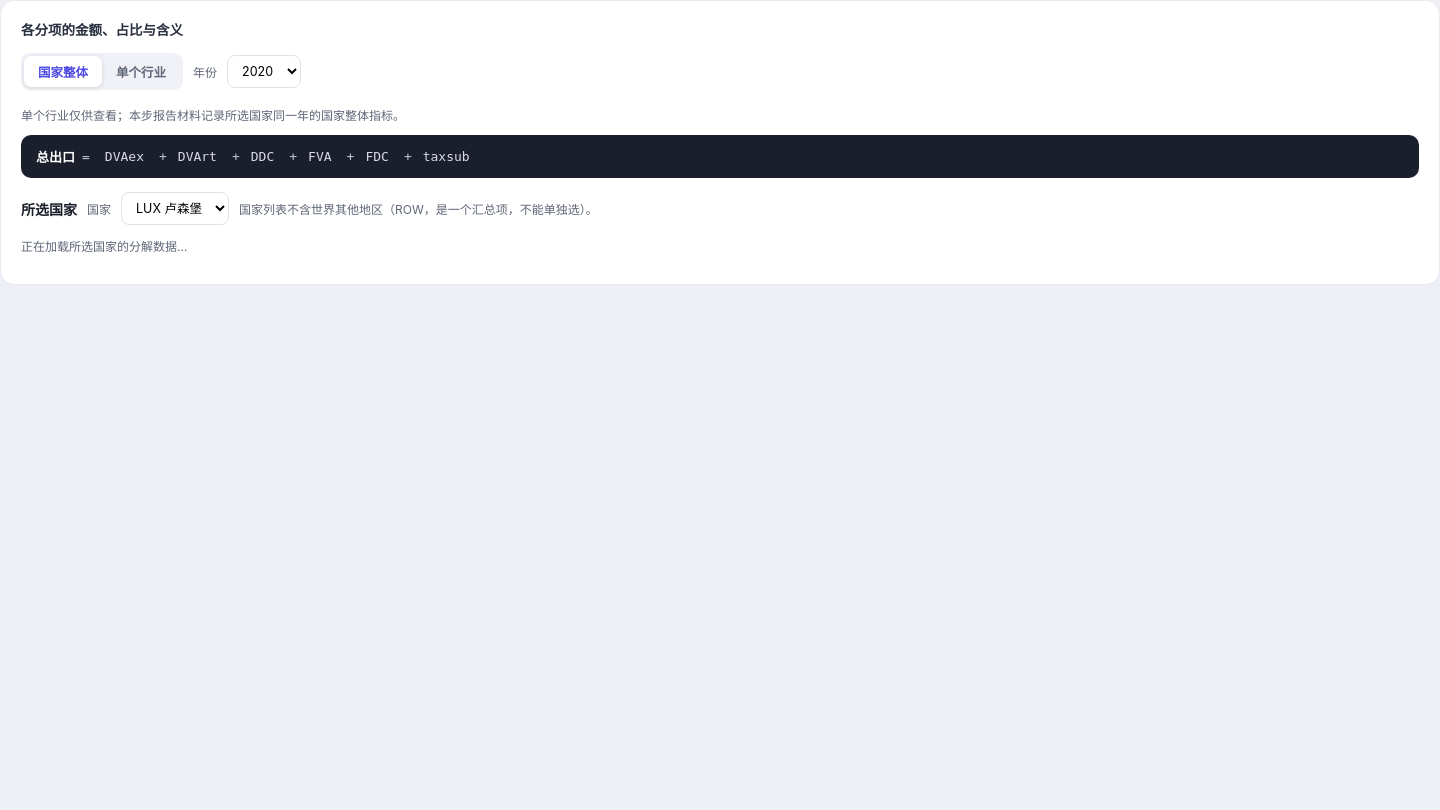
steps 2–4 notes read plainly (round 17) › a zero industry total is a plain notice, without an emoji
The image size is (1440, 810).
What coordinates should you click on to do the following:
click the button "单个行业"
I would click on:
 (141, 72)
Its box is [102,56,180,87].
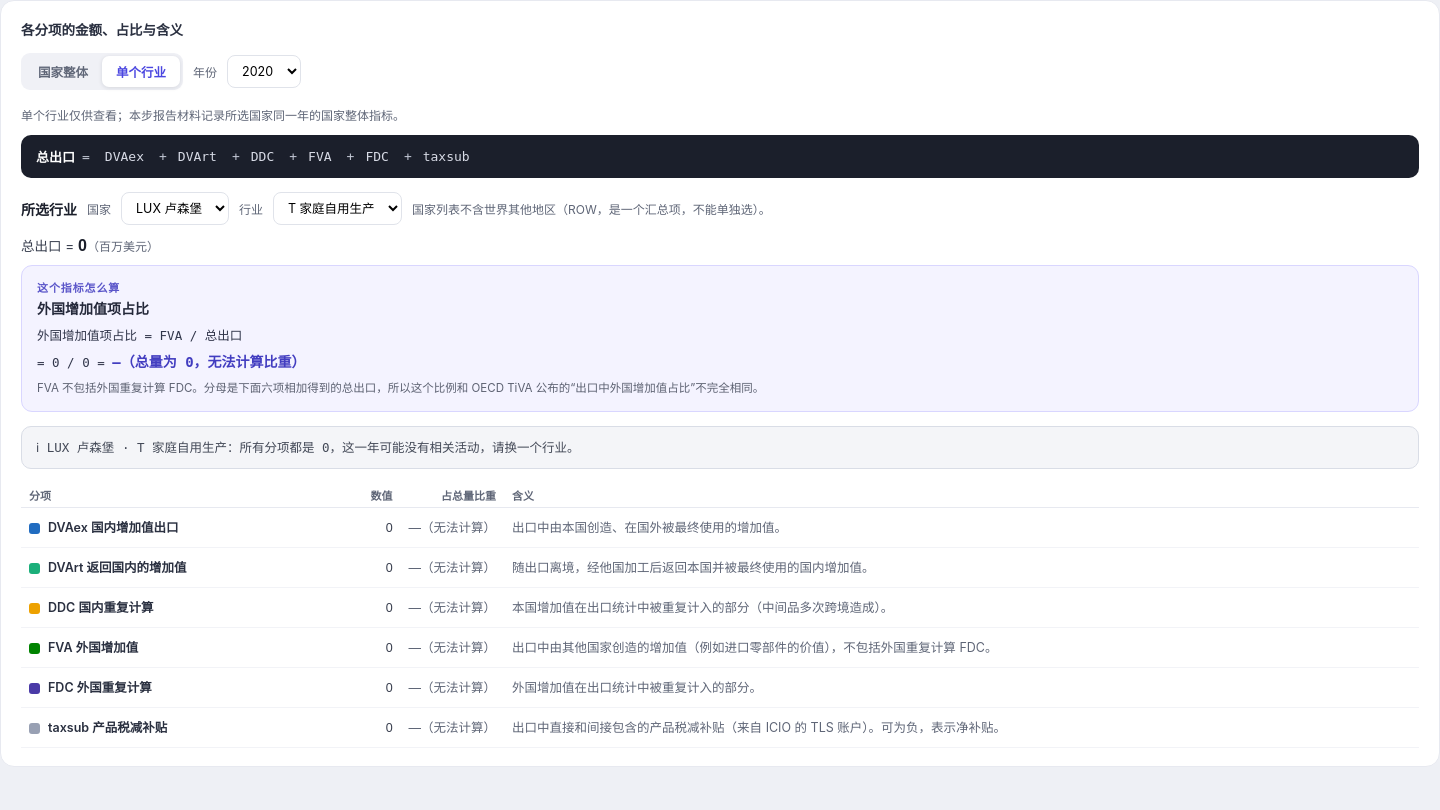
Now the text "ℹ LUX 卢森堡 · T 家庭自用生产：所有分项都是 0，这一年可能没有相关活动，请换一个行业。" is shown, box [21,426,1419,469]
